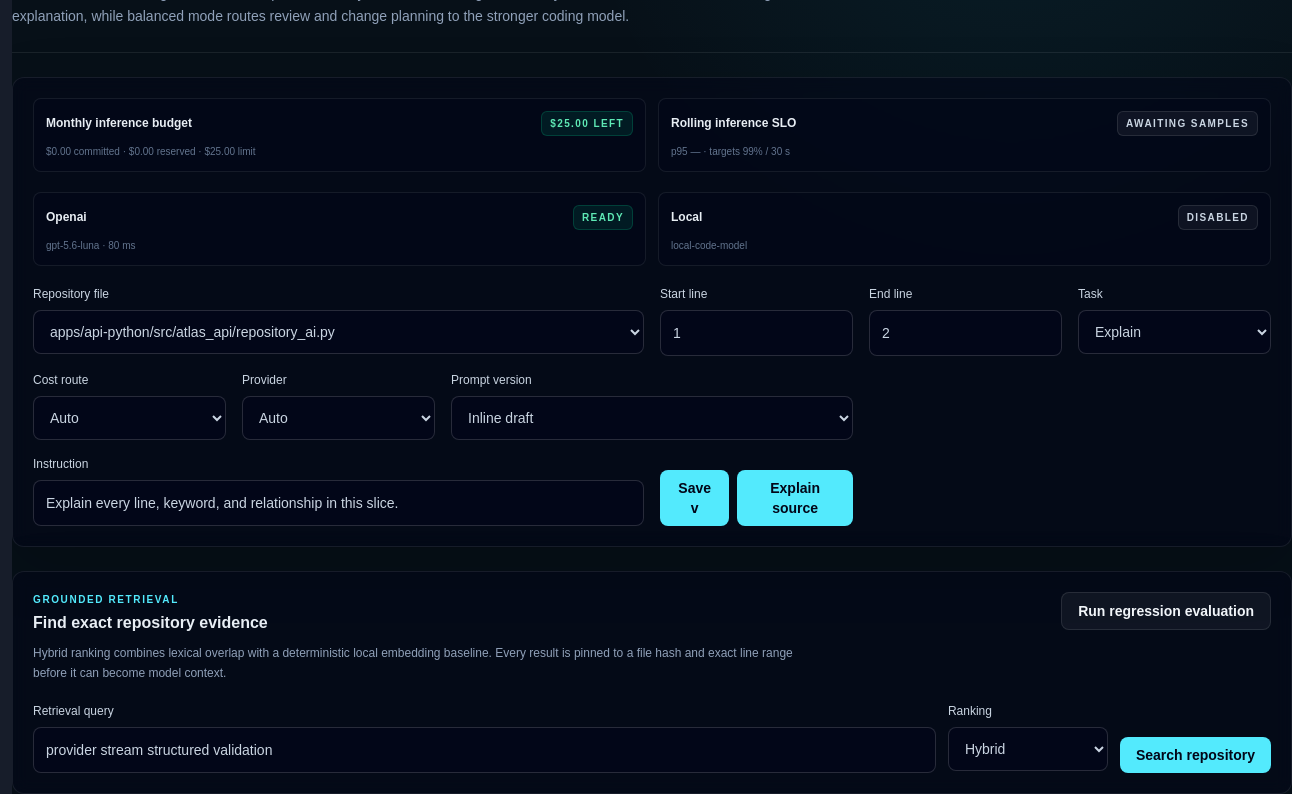
it: RepositoryAIWorkspace › shows exact retrieval citations and persisted evaluation evidence
(page scrolled)
Click the button "Search repository": {"x": 1195, "y": 754} [1120,736,1271,772]
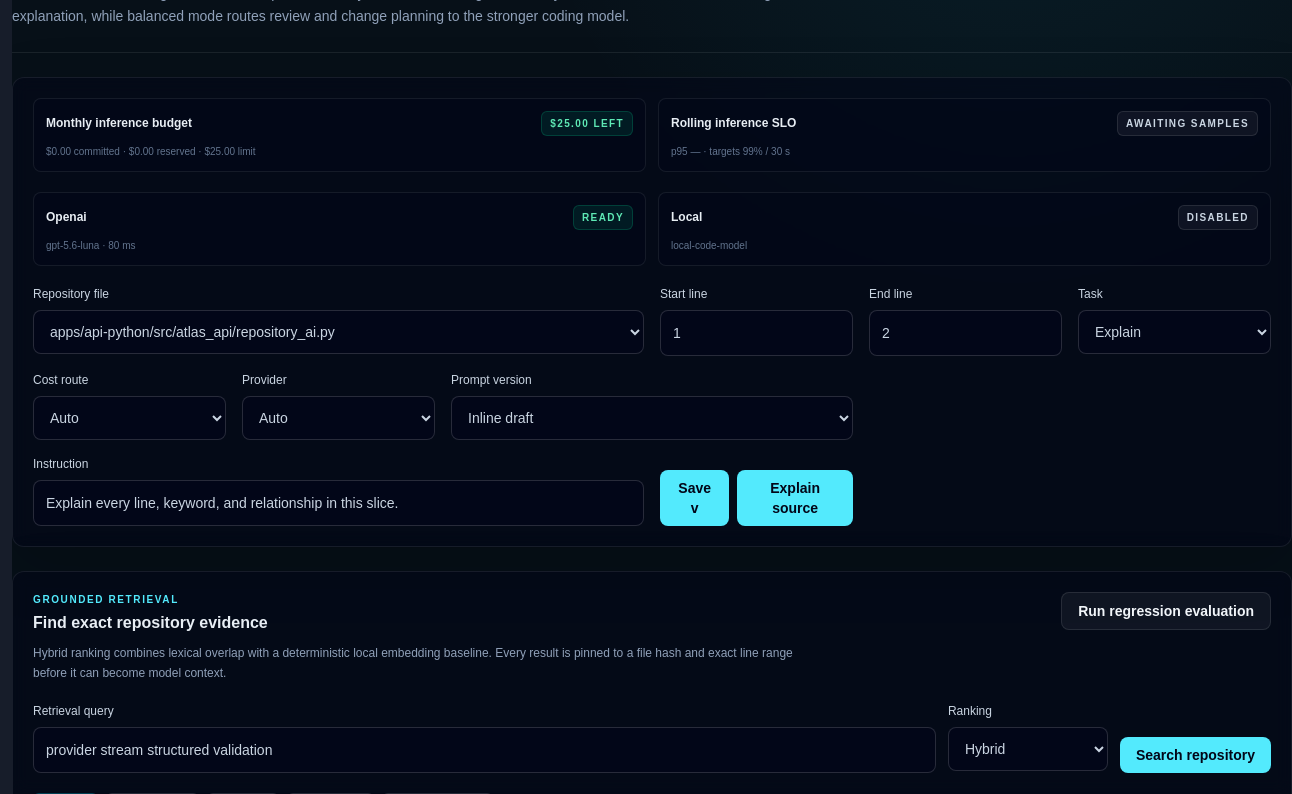
Click the button "Run regression evaluation": {"x": 1166, "y": 610} [1061,592,1271,630]
(page scrolled)
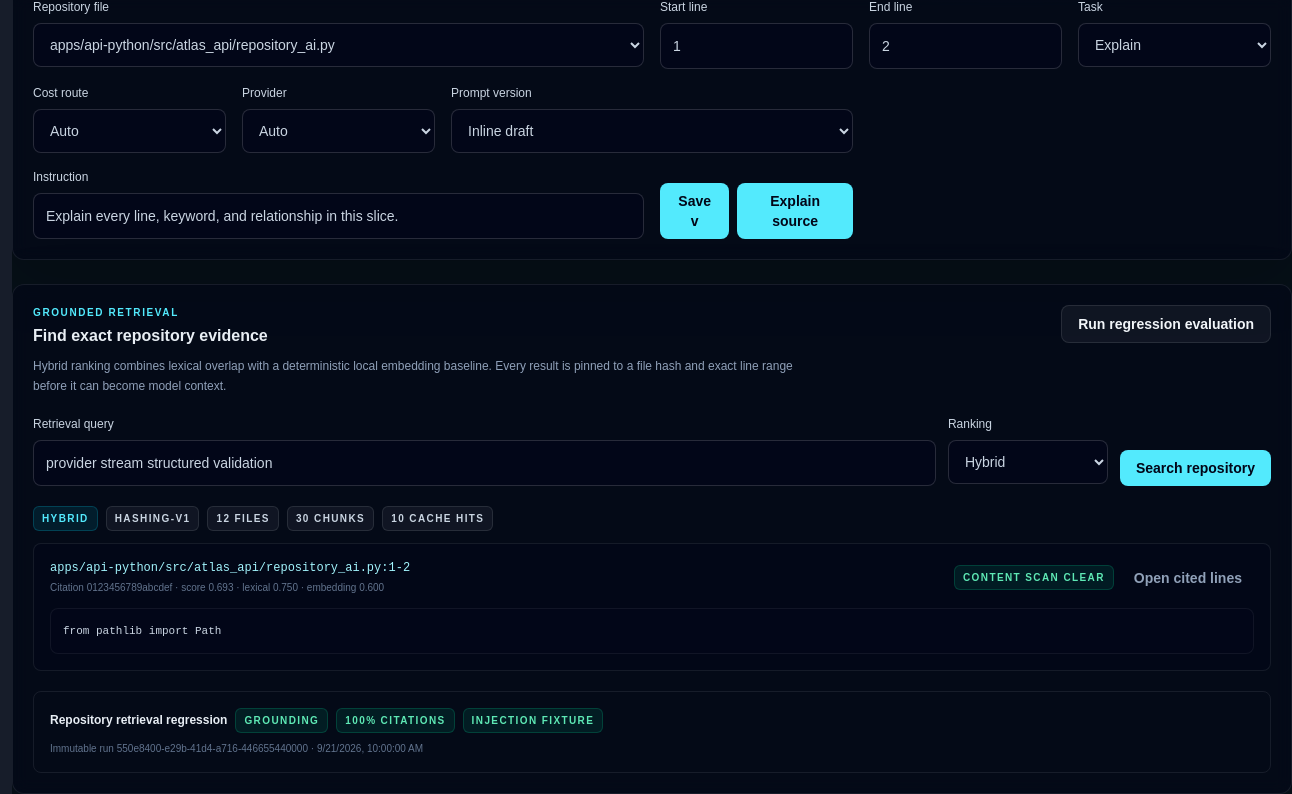
Check: the element named "Retrieval evaluation" shows "100% citations", box [33,690,1271,772]
